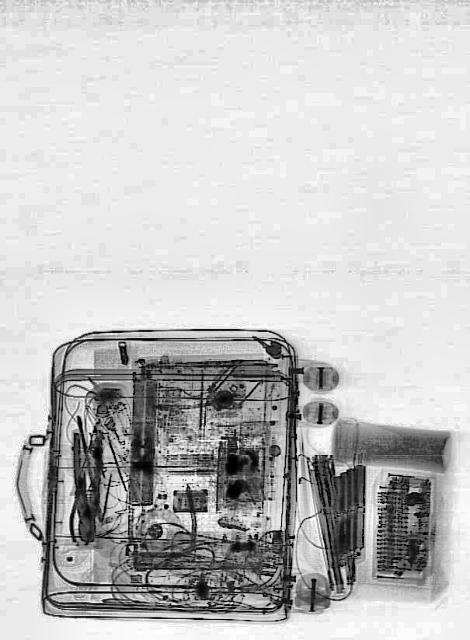Pliers: (70, 429, 103, 543), (67, 472, 97, 544)
